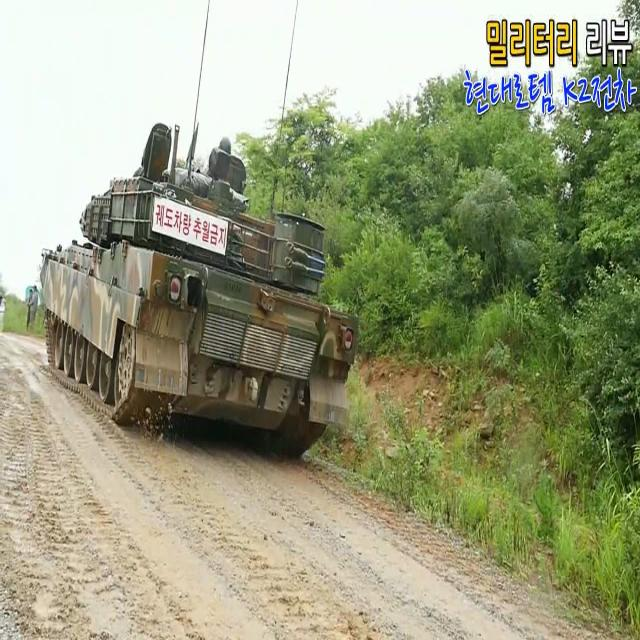korea tank: (38, 116, 360, 467)
